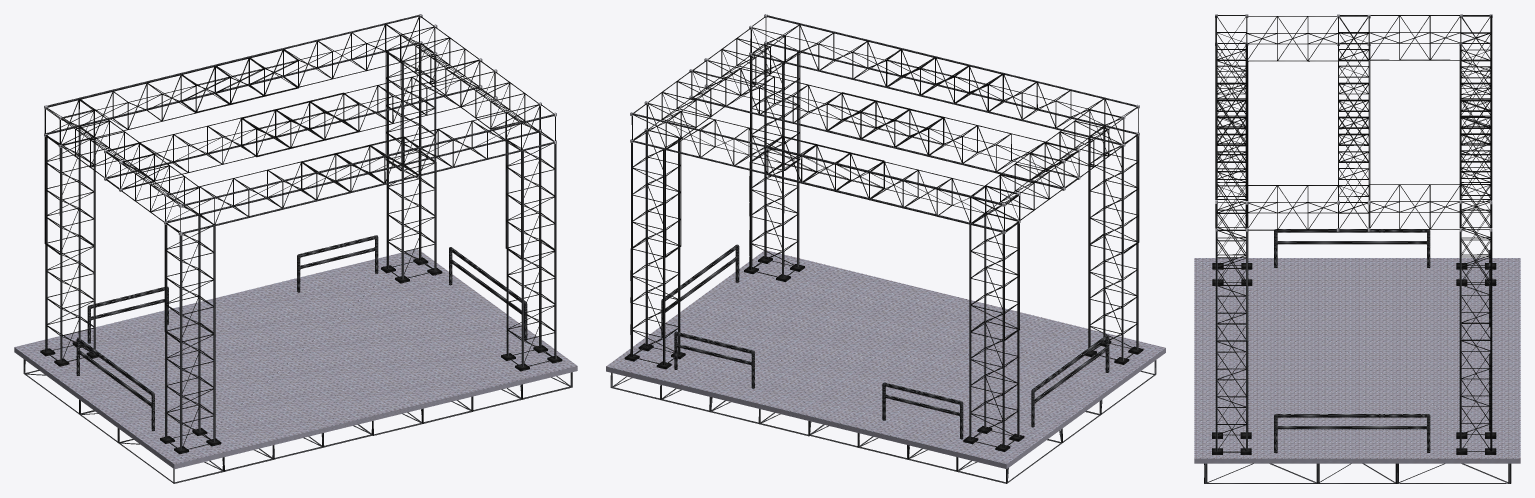
The model's file is stage_clean.obj.
The picture shows the model from 3 angles, left to right: view 1: azimuth 30°, elevation 25°; view 2: azimuth 150°, elevation 25°; view 3: azimuth 270°, elevation 25°; orthographic projection. The views are drawn at different scales.
Visible parts, largest first — view 1: floor, Cube_004_Cube_015, Cube_003_Cube_014, Cube_007_Cube_018, Cube_006_Cube_017, Cube_005_Cube_016, Cube_011_Cube_022, Cube_002_Cube_013, Cube_001, Cube_010_Cube_021, Cube_008_Cube_019, Cube_009_Cube_020 (+23 smaller); view 2: floor, Cube_005_Cube_016, Cube_004_Cube_015, Cube_007_Cube_018, Cube_003_Cube_014, Cube_001, Cube_002_Cube_013, Cube_006_Cube_017, Cube_009_Cube_020, Cube_008_Cube_019, Cube_011_Cube_022, Cube_010_Cube_021 (+24 smaller); view 3: floor, Cube_005_Cube_016, Cube_004_Cube_015, Cube_011_Cube_022, Cube_001, Cube_006_Cube_017, Cube_008_Cube_019, Cube_007_Cube_018, Cube_003_Cube_014, Cube_009_Cube_020, Cube_001_Cube_012, Cube_010_Cube_021 (+14 smaller).
Part boxes in pixels (x1=…): floor: x1=14, y1=249, x2=577, y2=469; Cube_004_Cube_015: x1=385, y1=16, x2=540, y2=138; Cube_003_Cube_014: x1=44, y1=41, x2=332, y2=145; Cube_007_Cube_018: x1=207, y1=60, x2=495, y2=163; Cube_006_Cube_017: x1=105, y1=85, x2=393, y2=188; Cube_005_Cube_016: x1=45, y1=99, x2=199, y2=222; Cube_011_Cube_022: x1=505, y1=131, x2=554, y2=366; Cube_002_Cube_013: x1=147, y1=16, x2=434, y2=120; Cube_001: x1=385, y1=43, x2=436, y2=278; Cube_010_Cube_021: x1=164, y1=214, x2=213, y2=449; Cube_008_Cube_019: x1=267, y1=104, x2=555, y2=207; Cube_009_Cube_020: x1=165, y1=129, x2=453, y2=232; floor: x1=606, y1=250, x2=1165, y2=469; Cube_005_Cube_016: x1=970, y1=110, x2=1124, y2=230; Cube_004_Cube_015: x1=631, y1=27, x2=785, y2=147; Cube_007_Cube_018: x1=691, y1=61, x2=977, y2=162; Cube_003_Cube_014: x1=733, y1=128, x2=1020, y2=232; Cube_001: x1=630, y1=130, x2=681, y2=364; Cube_002_Cube_013: x1=632, y1=103, x2=918, y2=205; Cube_006_Cube_017: x1=792, y1=86, x2=1078, y2=187; Cube_009_Cube_020: x1=852, y1=41, x2=1138, y2=143; Cube_008_Cube_019: x1=750, y1=17, x2=1037, y2=119; Cube_011_Cube_022: x1=749, y1=43, x2=800, y2=276; Cube_010_Cube_021: x1=1090, y1=126, x2=1139, y2=359; floor: x1=1194, y1=258, x2=1520, y2=463; Cube_005_Cube_016: x1=1247, y1=15, x2=1490, y2=61; Cube_004_Cube_015: x1=1247, y1=184, x2=1491, y2=230; Cube_011_Cube_022: x1=1216, y1=212, x2=1247, y2=452; Cube_001: x1=1460, y1=212, x2=1491, y2=451; Cube_006_Cube_017: x1=1338, y1=15, x2=1369, y2=179; Cube_008_Cube_019: x1=1215, y1=65, x2=1247, y2=230; Cube_007_Cube_018: x1=1338, y1=65, x2=1369, y2=230; Cube_003_Cube_014: x1=1460, y1=16, x2=1490, y2=178; Cube_009_Cube_020: x1=1217, y1=15, x2=1247, y2=179; Cube_001_Cube_012: x1=1461, y1=43, x2=1490, y2=282; Cube_010_Cube_021: x1=1217, y1=43, x2=1245, y2=282.
Bounding box in the file's own units: 19.39 × 12.54 × 13.34.
